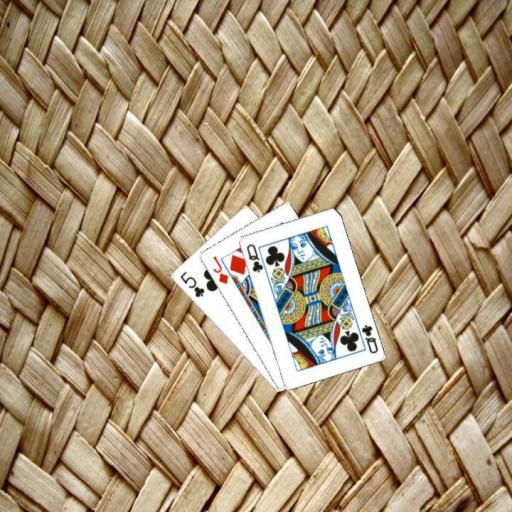card-corner: (176, 268, 206, 299), (243, 240, 265, 274), (209, 252, 230, 286), (358, 321, 379, 355)
